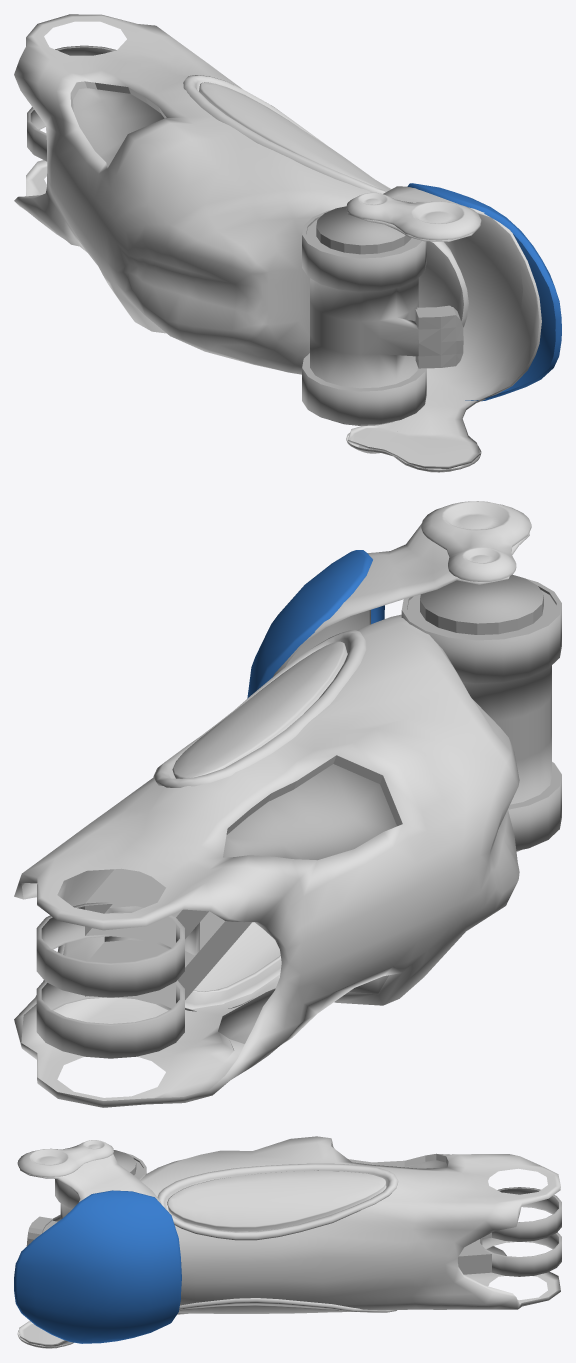
Rendered from LKneePitch.dae.
The picture shows the model from 3 angles, top to bottom: view 1: azimuth 30°, elevation 25°; view 2: azimuth 150°, elevation 25°; view 3: azimuth 270°, elevation 25°; orthographic projection. The views are drawn at different scales.
Visible parts, largest first — view 1: LKneePitch, Cylinder003_001_skip, Object004_001_skip; view 2: LKneePitch, Object004_001_skip, Cylinder003_001_skip; view 3: LKneePitch, Object004_001_skip, Cylinder003_001_skip.
Part boxes in pixels (x1,y1,x2,y2): LKneePitch: [14, 14, 561, 472]; Cylinder003_001_skip: [302, 206, 463, 425]; Object004_001_skip: [27, 45, 116, 161]; LKneePitch: [14, 501, 531, 1107]; Object004_001_skip: [36, 868, 251, 1058]; Cylinder003_001_skip: [401, 574, 561, 851]; LKneePitch: [14, 1136, 560, 1348]; Object004_001_skip: [458, 1187, 561, 1276]; Cylinder003_001_skip: [26, 1150, 146, 1246].
Bounding box in the file's own units: 0.1653 × 0.1377 × 0.3741.
